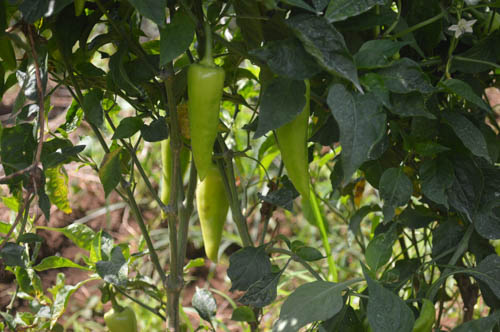ChiliPepper: (185, 63, 224, 181), (272, 88, 311, 201), (193, 179, 225, 261), (157, 139, 185, 212)
